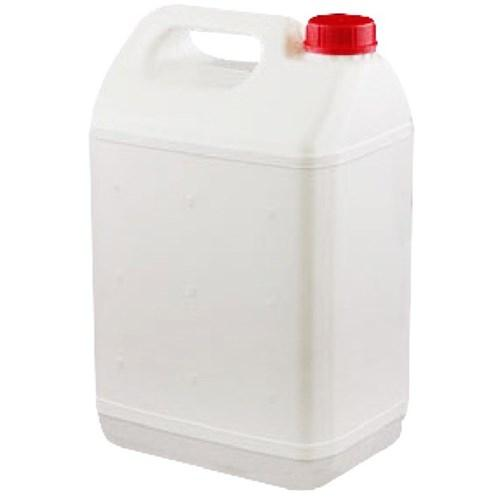HDPE: (88, 6, 415, 491), (303, 12, 378, 55)
